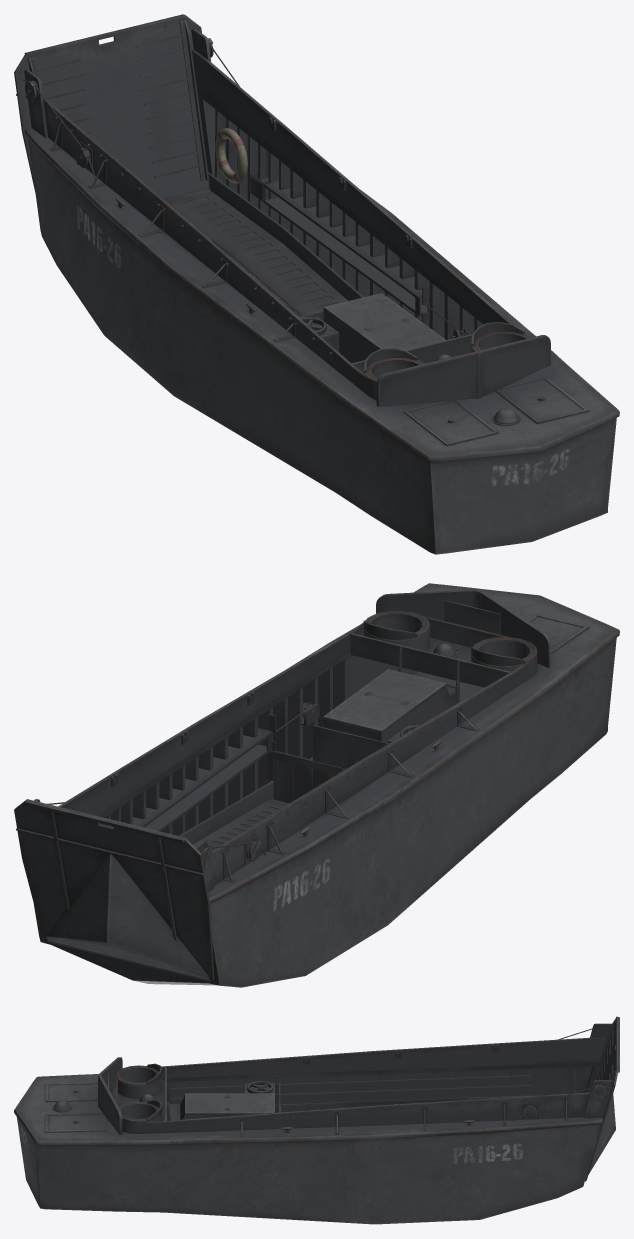
Rendered from lcvp.glb.
3 views of the same model, one above another, from view 1: azimuth 30°, elevation 25°; view 2: azimuth 150°, elevation 25°; view 3: azimuth 270°, elevation 25° (orthographic). The views are drawn at different scales.
Visible parts, largest first — view 1: lcvp_LCVP_0, door_LCVP_0, torret2_LCVP_0, torret1_LCVP_0, lifesaver_lifesaver_0; view 2: lcvp_LCVP_0, door_LCVP_0, torret2_LCVP_0, torret1_LCVP_0; view 3: lcvp_LCVP_0, door_LCVP_0, torret2_LCVP_0, torret1_LCVP_0.
Part boxes in pixels (left/top/right/bottom): lcvp_LCVP_0: left=24, top=28, right=619, bottom=554; door_LCVP_0: left=14, top=14, right=209, bottom=198; torret2_LCVP_0: left=364, top=348, right=425, bottom=382; torret1_LCVP_0: left=471, top=322, right=532, bottom=351; lifesaver_lifesaver_0: left=215, top=128, right=247, bottom=183; lcvp_LCVP_0: left=34, top=583, right=619, bottom=987; door_LCVP_0: left=14, top=799, right=214, bottom=980; torret2_LCVP_0: left=471, top=637, right=537, bottom=666; torret1_LCVP_0: left=363, top=610, right=429, bottom=639; lcvp_LCVP_0: left=14, top=1023, right=613, bottom=1224; door_LCVP_0: left=585, top=1016, right=619, bottom=1180; torret2_LCVP_0: left=115, top=1063, right=162, bottom=1085; torret1_LCVP_0: left=119, top=1100, right=162, bottom=1122.
Bounding box in the file's own units: 3.25 × 3.16 × 11.
4 materials, 4 textured.
